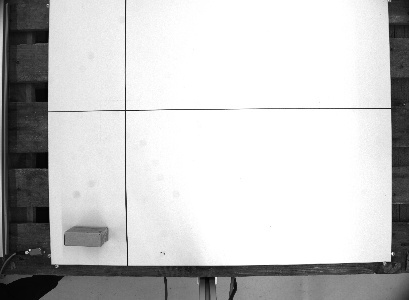b1: (61, 223, 111, 248)
